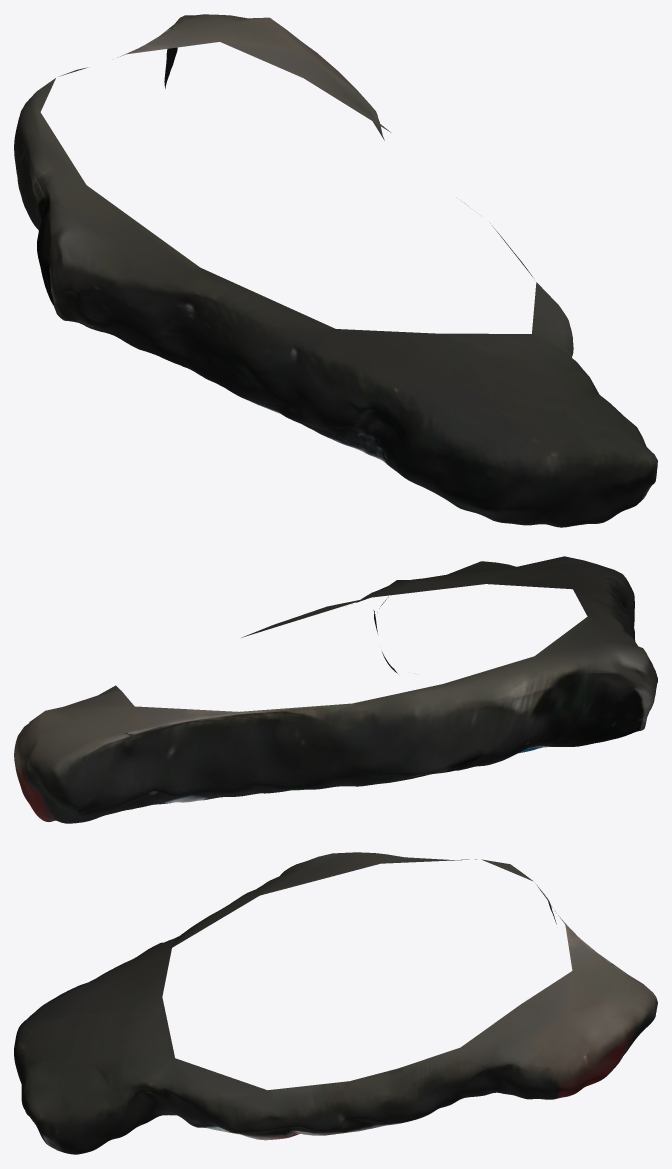
3 views of the same model, one above another, from view 1: azimuth 30°, elevation 25°; view 2: azimuth 150°, elevation 25°; view 3: azimuth 270°, elevation 25° (orthographic). The views are drawn at different scales.
Bounding box in the file's own units: 0.4403 × 0.2364 × 0.7236.
1 material, 1 textured.
